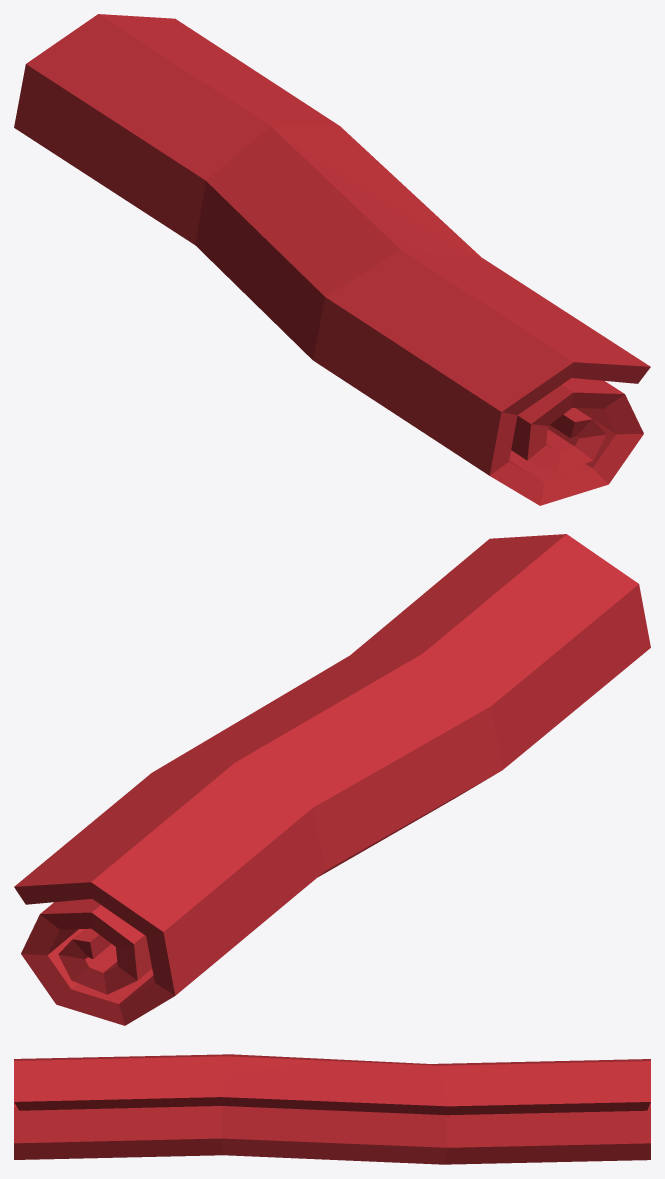
File: egypt_carpet-rolled.fbx
The picture shows the model from 3 angles, top to bottom: view 1: azimuth 30°, elevation 25°; view 2: azimuth 150°, elevation 25°; view 3: azimuth 270°, elevation 25°; orthographic projection. The views are drawn at different scales.
Parts seen in each view (by area): view 1: egypt_carpet_rolled; view 2: egypt_carpet_rolled; view 3: egypt_carpet_rolled.
Boxes of the visible parts, box(x1,y1,x2,y2) form: egypt_carpet_rolled: box(14, 14, 650, 505); egypt_carpet_rolled: box(14, 534, 650, 1025); egypt_carpet_rolled: box(14, 1054, 650, 1164).
Size of the model in its own units: 45.9 by 31.43 by 200.
